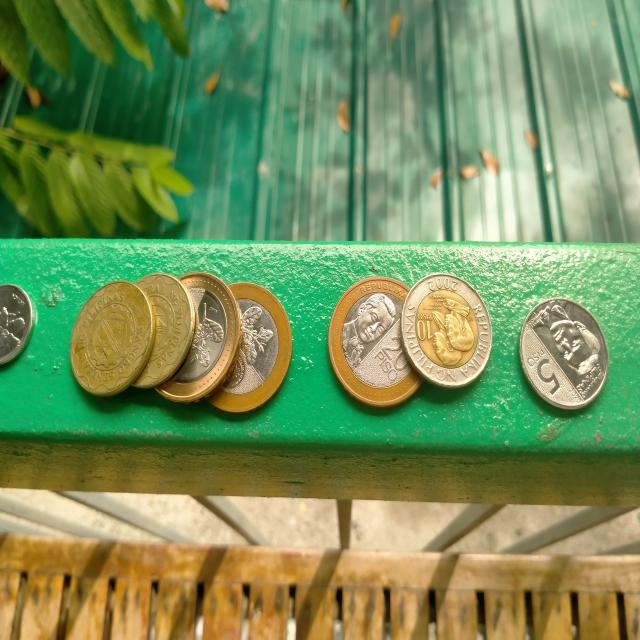10_Old_Front: (416, 306, 443, 351)
20_New_Front: (369, 330, 411, 385)
5_New_Front: (521, 342, 565, 405)
